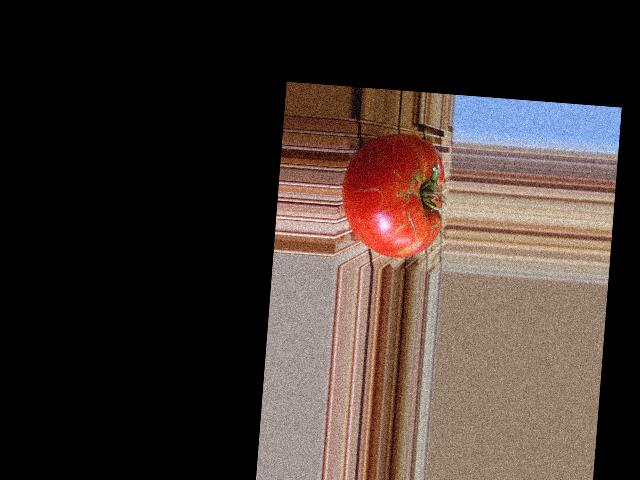tomato: (338, 129, 448, 260)
